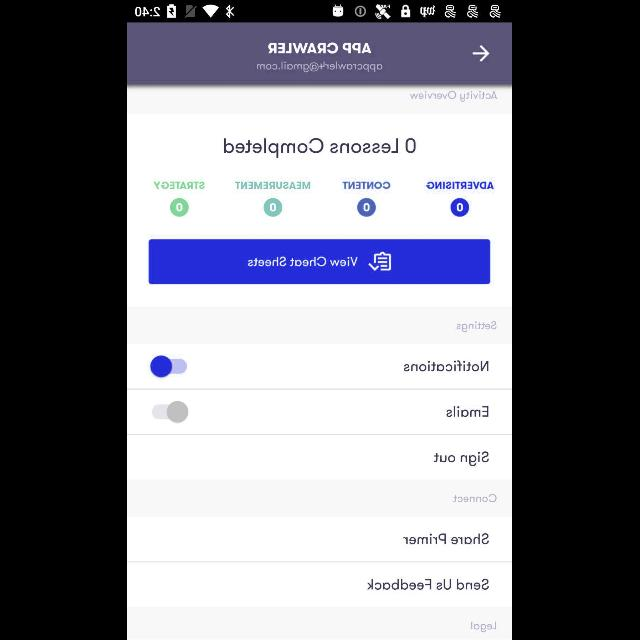icon: (473, 45, 491, 63)
image: (264, 198, 284, 218), (170, 198, 190, 218), (452, 198, 471, 218), (358, 198, 377, 218)
switch: (150, 356, 188, 378), (153, 401, 190, 423)
text: (225, 138, 417, 158), (256, 61, 384, 73), (368, 578, 490, 590), (268, 42, 372, 54), (410, 90, 498, 102), (404, 533, 490, 545), (404, 360, 490, 372), (434, 451, 490, 467), (236, 182, 310, 190), (427, 182, 495, 190), (457, 321, 498, 333), (447, 407, 489, 418), (154, 182, 206, 190), (454, 493, 498, 502), (343, 182, 391, 190), (472, 622, 496, 632)
textbutton: (149, 240, 491, 284)
uppertaskbar: (128, 1, 512, 23)
